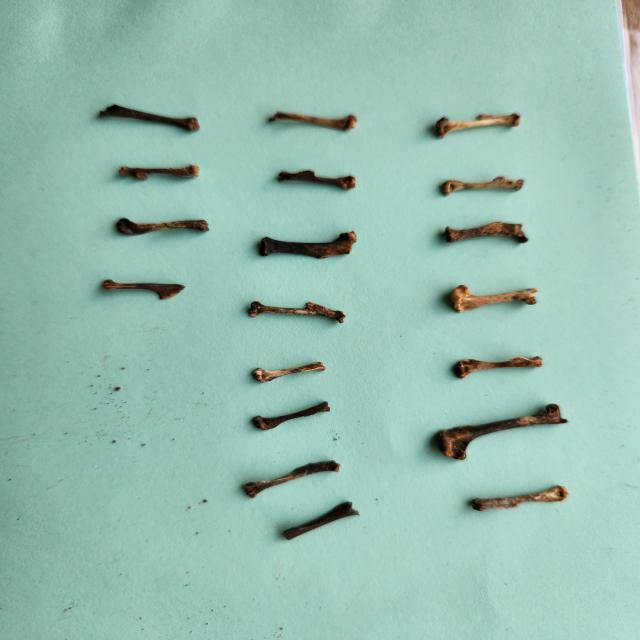fossil: (428, 400, 572, 462), (233, 456, 352, 500), (92, 100, 213, 139), (252, 226, 367, 264), (463, 481, 575, 519), (277, 498, 366, 545), (427, 107, 536, 143), (442, 280, 546, 317), (238, 296, 354, 326), (260, 104, 364, 137), (246, 399, 342, 434), (433, 217, 548, 246), (434, 170, 539, 201), (448, 352, 549, 382), (94, 274, 192, 302), (269, 166, 367, 193), (247, 358, 338, 386), (112, 215, 217, 238), (113, 160, 209, 184)
